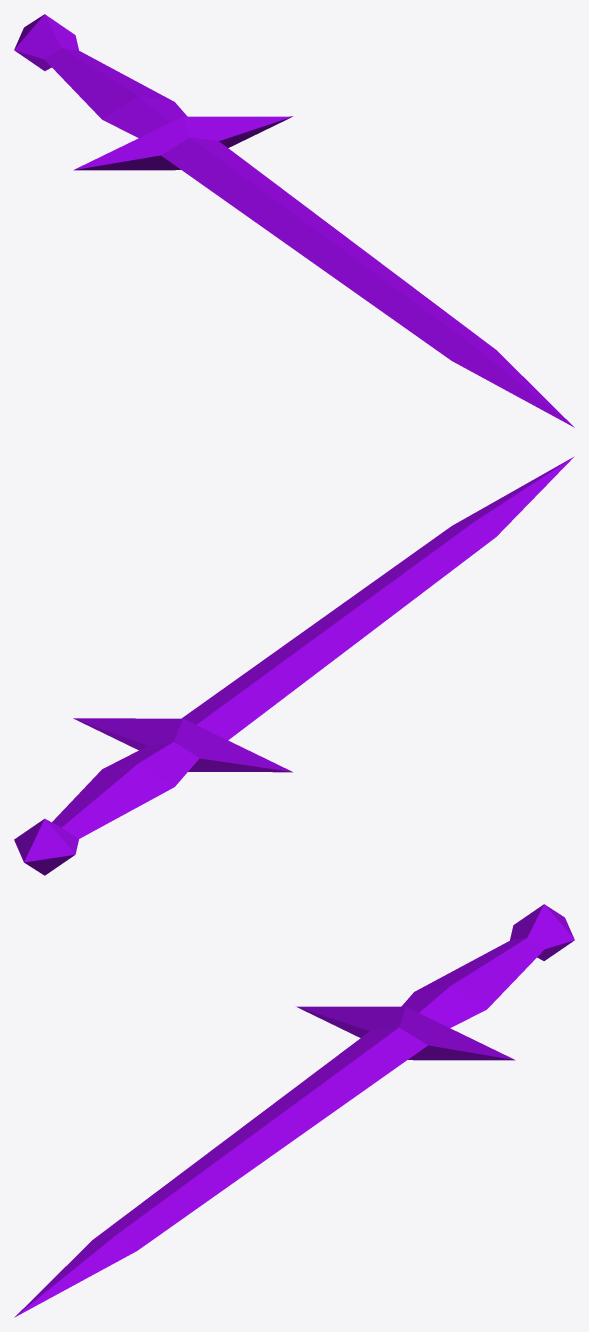
File: sword_short_debug.glb
3 renders of one model, top to bottom at view 1: azimuth 30°, elevation 25°; view 2: azimuth 150°, elevation 25°; view 3: azimuth 330°, elevation 25°, orthographic.
Visible parts, largest first — view 1: prop_sword-short.001; view 2: prop_sword-short.001; view 3: prop_sword-short.001.
Boxes of the visible parts, x1,y1,x2,y2 form: prop_sword-short.001: (14,14,574,427); prop_sword-short.001: (14,456,574,875); prop_sword-short.001: (14,904,574,1317).
Bounding box in the file's own units: 0.2105 × 0.0522 × 0.9104.
